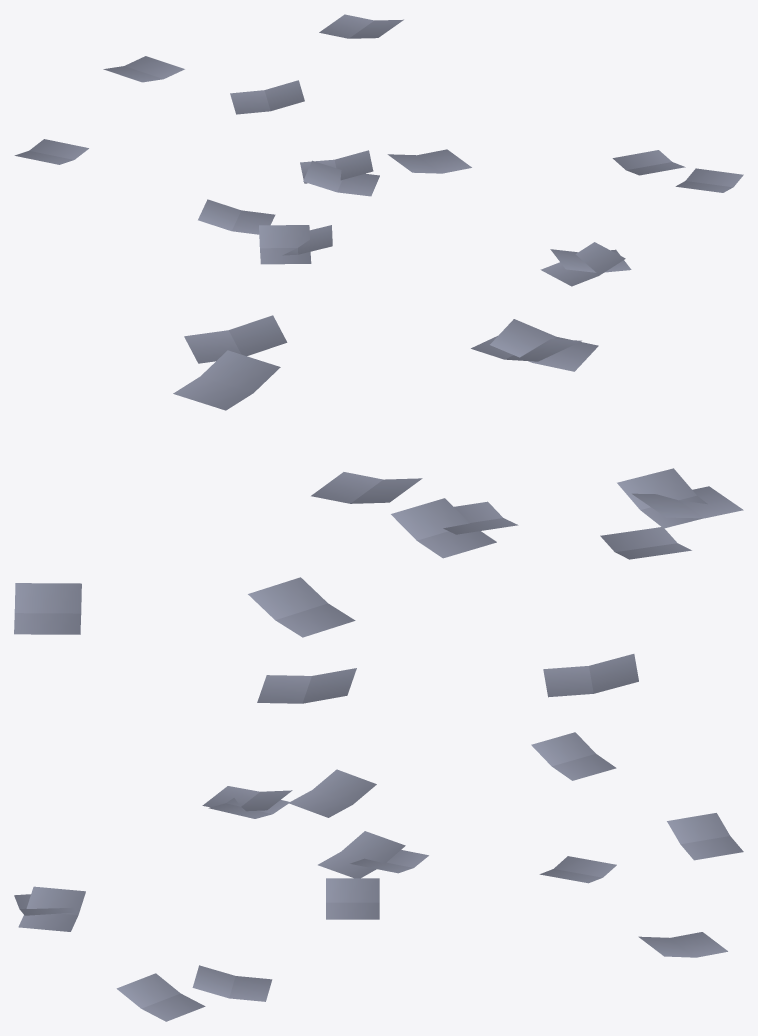
The model's file is Papers1.fbx.
3 views of the same model, one above another, from view 1: azimuth 30°, elevation 25°; view 2: azimuth 150°, elevation 25°; view 3: azimuth 270°, elevation 25° (orthographic). The views are drawn at different scales.
Visible parts, largest first — view 1: Плоскость.002; view 2: Плоскость.002; view 3: Плоскость.002.
Boxes of the visible parts, x1=… form: Плоскость.002: x1=14, y1=14, x2=743, y2=286; Плоскость.002: x1=14, y1=315, x2=743, y2=703; Плоскость.002: x1=14, y1=732, x2=743, y2=1021.
Bounding box in the file's own units: 224 × 3.84 × 247.
